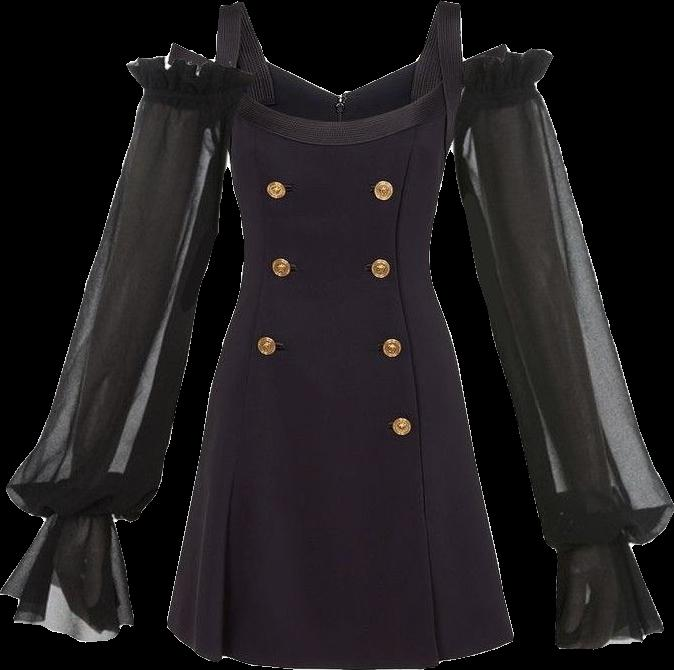Bodice: (216, 1, 464, 273)
Hemline: (165, 619, 514, 669)
Neckline: (232, 2, 446, 128)
Skirt: (168, 274, 513, 668)
Sleeve: (0, 42, 229, 642), (453, 43, 673, 649)
Sleeveline: (210, 58, 235, 163), (447, 60, 471, 150), (462, 85, 538, 108), (140, 86, 218, 105), (555, 541, 635, 551), (42, 512, 115, 522)
